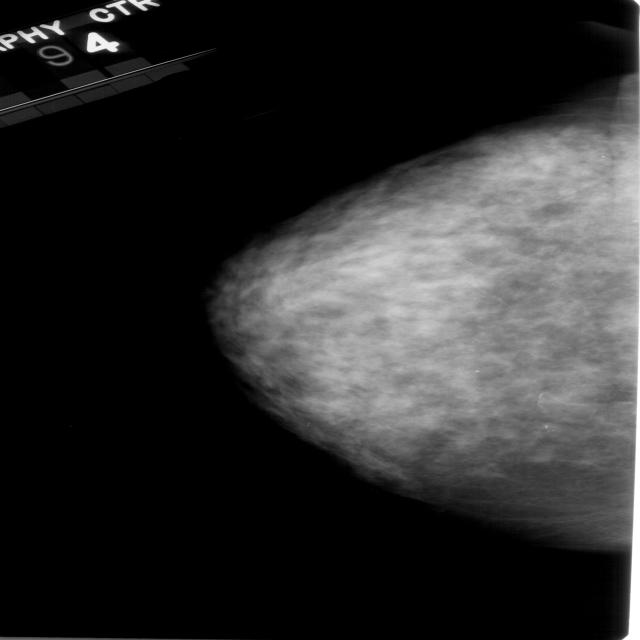normal: (201, 91, 640, 553)
